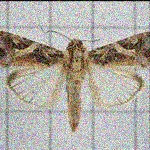Spodoptera litura: (0, 17, 149, 133)
